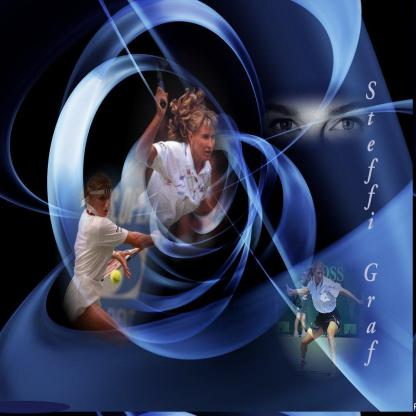face: (261, 66, 380, 256), (197, 125, 216, 162), (93, 187, 113, 219), (316, 269, 324, 284), (304, 276, 308, 283)
